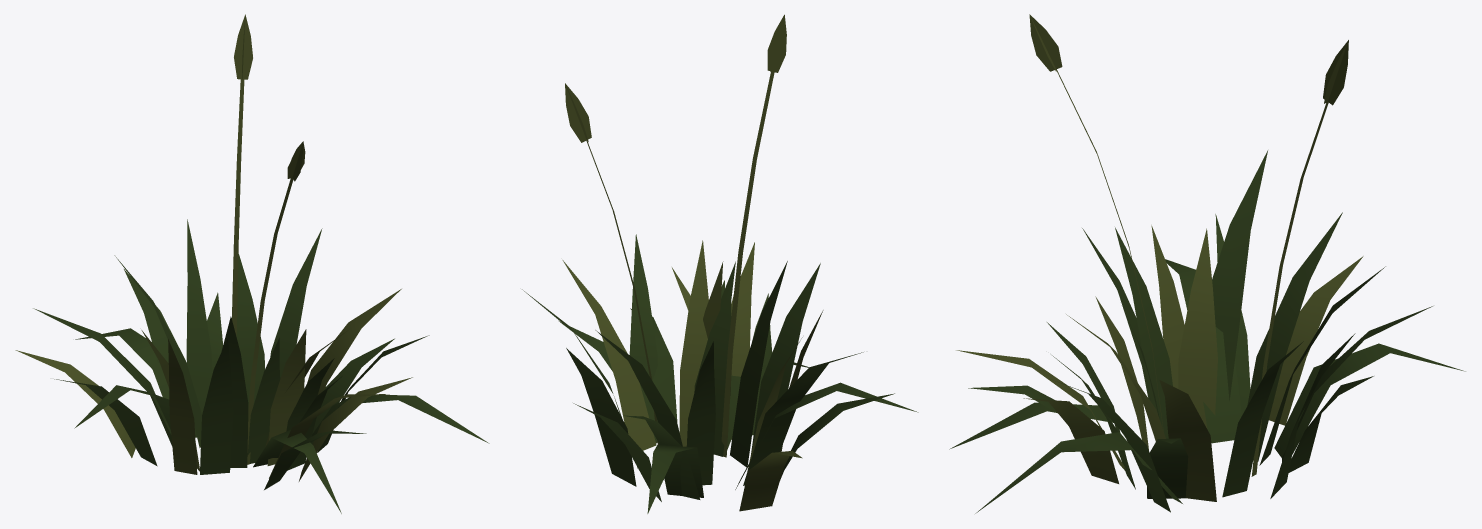
The model's file is grass_green.glb.
3 renders of one model, left to right at view 1: azimuth 30°, elevation 25°; view 2: azimuth 150°, elevation 25°; view 3: azimuth 270°, elevation 25°, orthographic. The views are drawn at different scales.
Parts seen in each view (by area): view 1: GrassGreen_mesh; view 2: GrassGreen_mesh; view 3: GrassGreen_mesh.
Boxes of the visible parts, x1,y1,x2,y2 form: GrassGreen_mesh: (15, 14, 489, 513); GrassGreen_mesh: (522, 14, 918, 513); GrassGreen_mesh: (949, 14, 1465, 513).
Size of the model in its own units: 0.7279 by 0.7698 by 0.7762.
